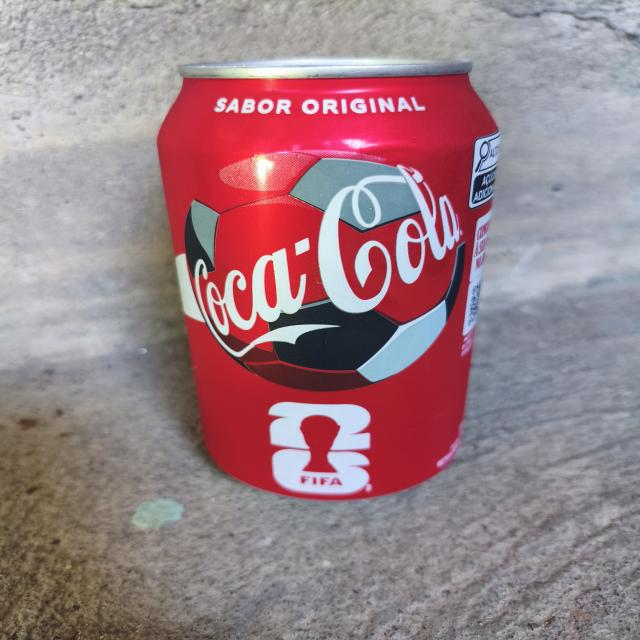Coca Cola: (146, 39, 509, 508)
